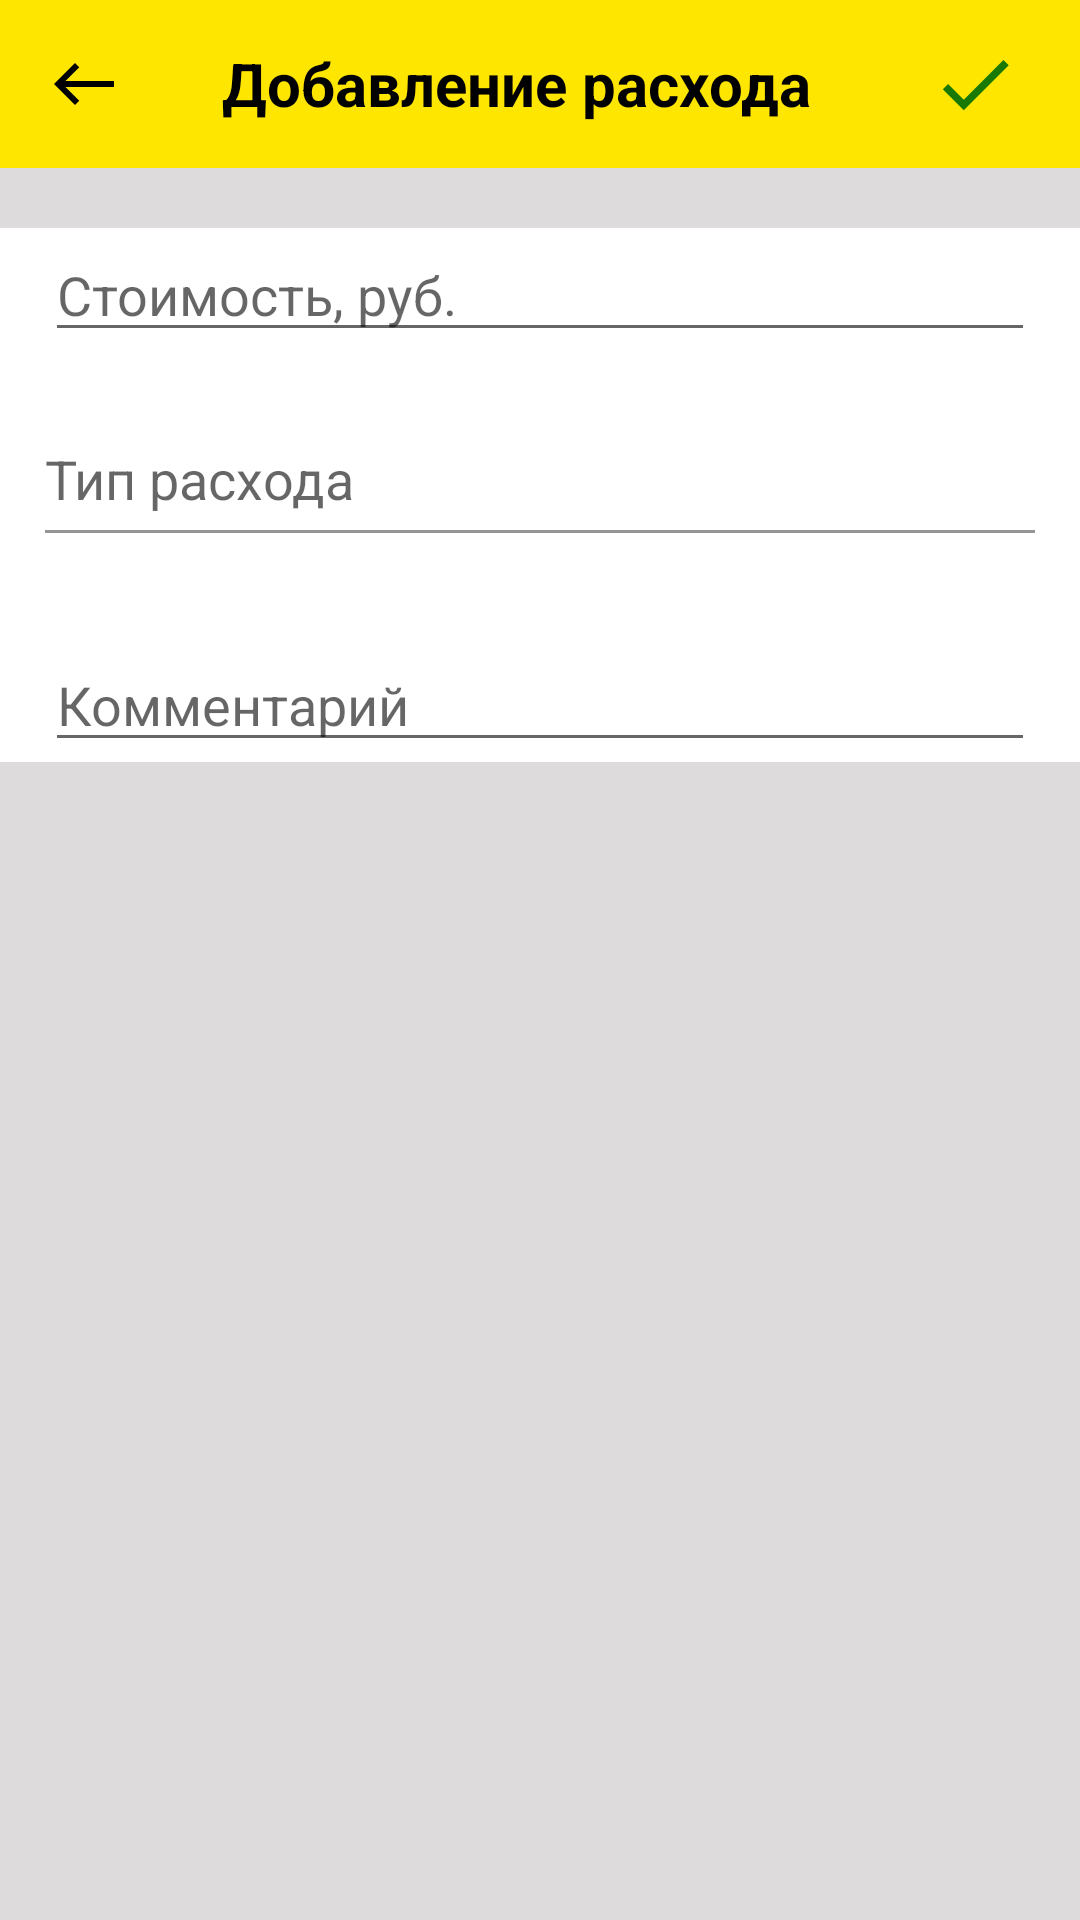

Named icons in this screenshot (1080px×1920px) and their bounding boxes, (x1, y1, x2, y2):
back: (54, 63, 114, 105)
bnt save: (943, 60, 1009, 110)
